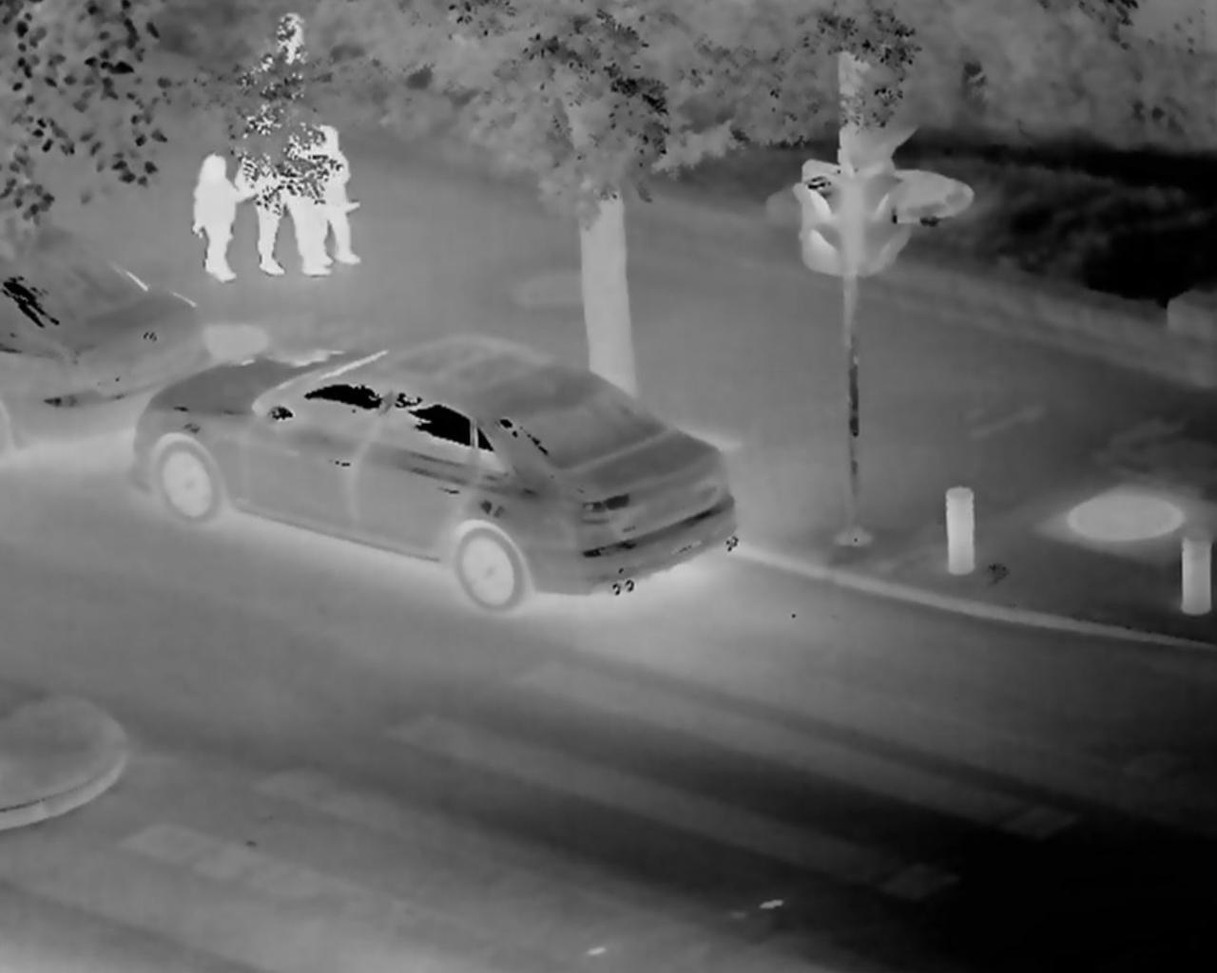person: (248, 48, 303, 277), (299, 129, 355, 271), (197, 154, 243, 288)
